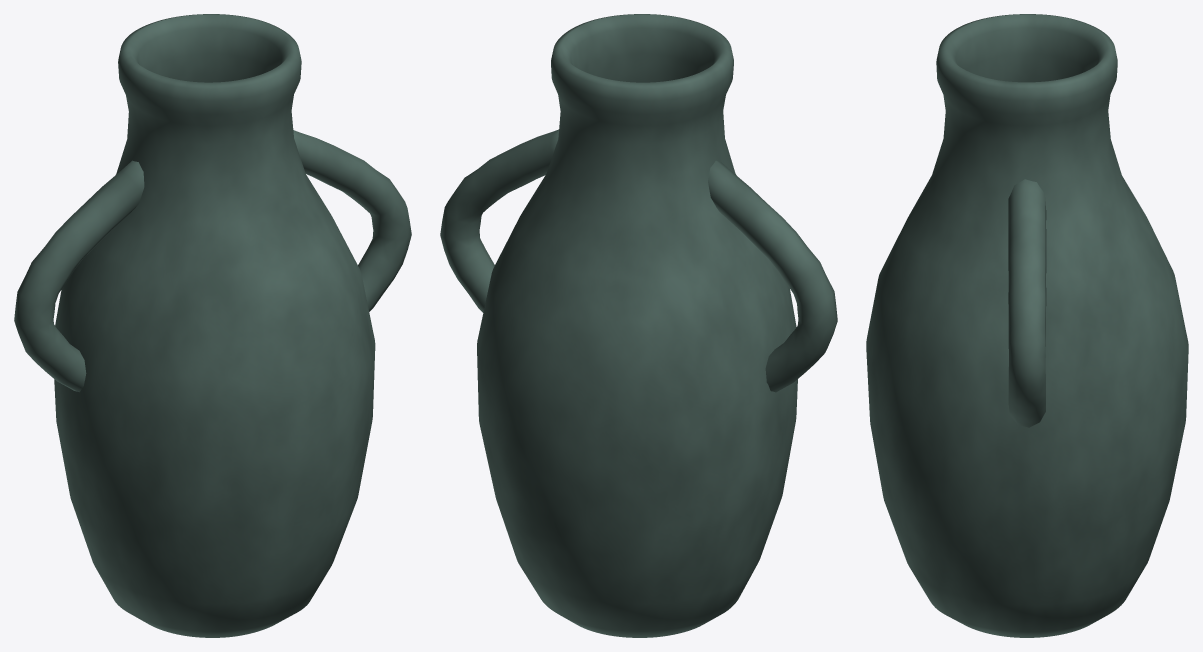
Rendered from 21_Glazed_Amphora.glb.
3 renders of one model, left to right at view 1: azimuth 30°, elevation 25°; view 2: azimuth 150°, elevation 25°; view 3: azimuth 270°, elevation 25°, orthographic.
Visible parts, largest first — view 1: 21_Glazed_Amphora_Body; view 2: 21_Glazed_Amphora_Body; view 3: 21_Glazed_Amphora_Body.
Part boxes in pixels (x1,y1,x2,y2): 21_Glazed_Amphora_Body: (14,14,411,637); 21_Glazed_Amphora_Body: (440,14,837,637); 21_Glazed_Amphora_Body: (866,14,1188,637).
Size of the model in its own units: 0.6808 by 0.9325 by 0.485.
1 material, 1 textured.
